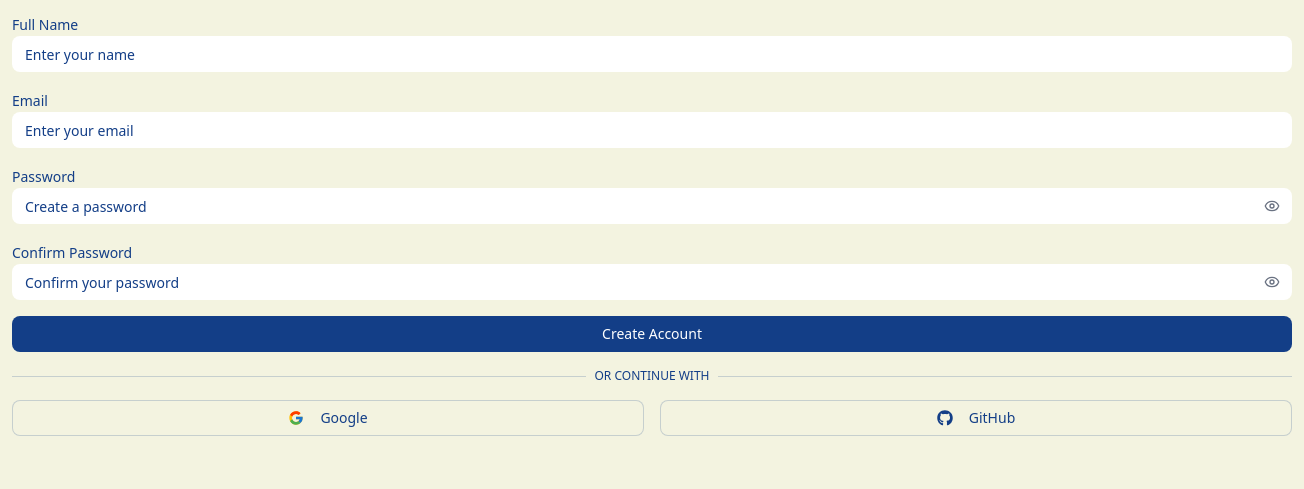
Test: SignupForm Component › form submit displays error when passwords do not match
Type "John Doe" into the field with placeholder "Enter your name". click: (652, 54)
box: [12,36,1292,72]
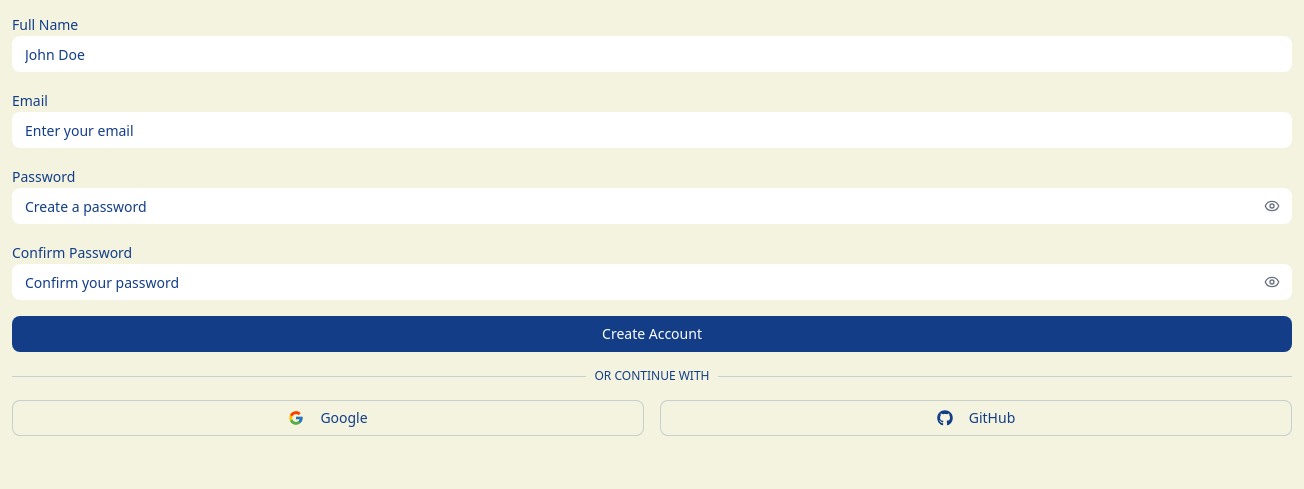
Type "test@example.com" into the field with placeholder "Enter your email". click: (652, 130)
box: [12,112,1292,148]
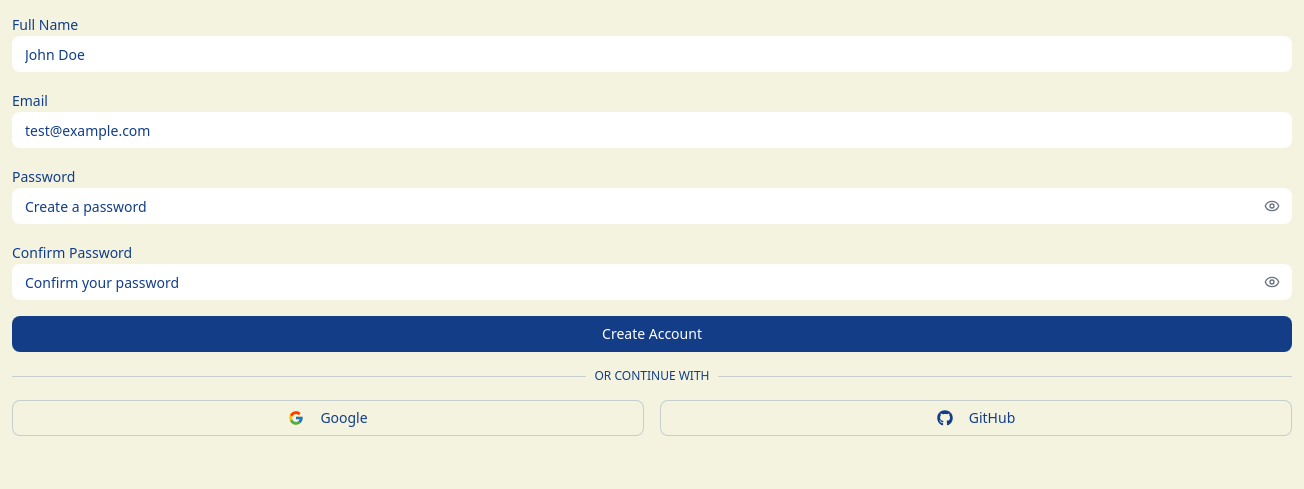
Type "password123" into the password field with placeholder "Create a password". click: (652, 206)
box: [12,188,1292,224]
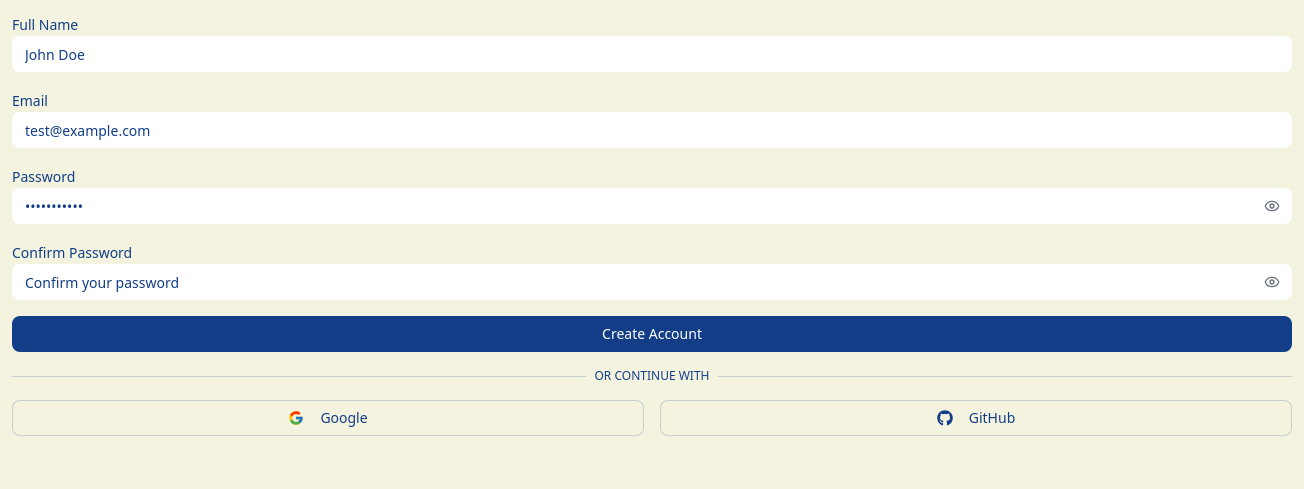
Type "password456" into the password field with placeholder "Confirm your password". click: (652, 282)
box: [12,264,1292,300]
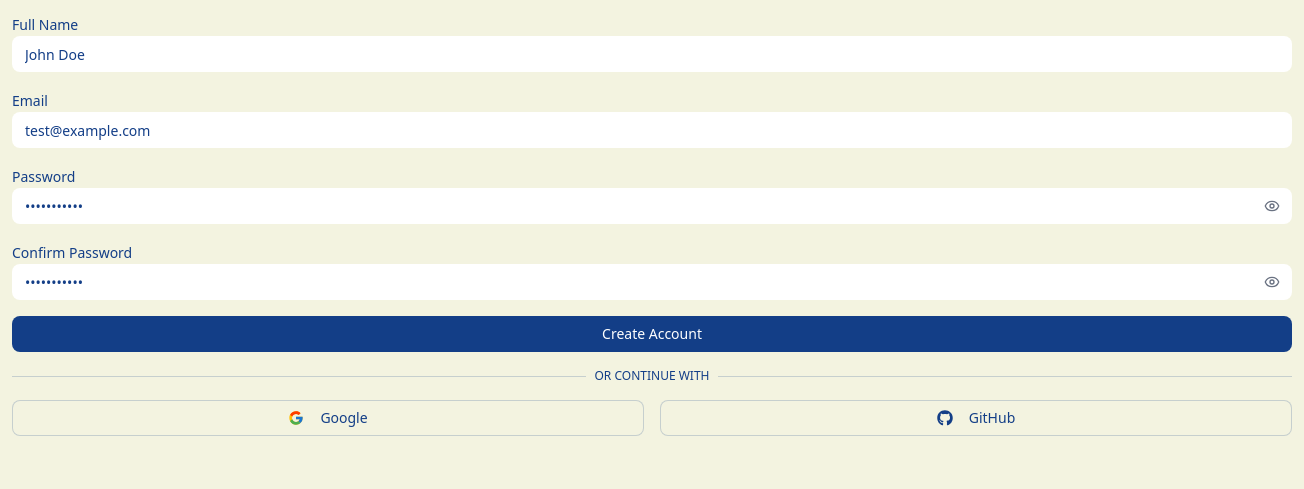
Click the button "Create Account". click: (652, 334)
box: [12,316,1292,352]
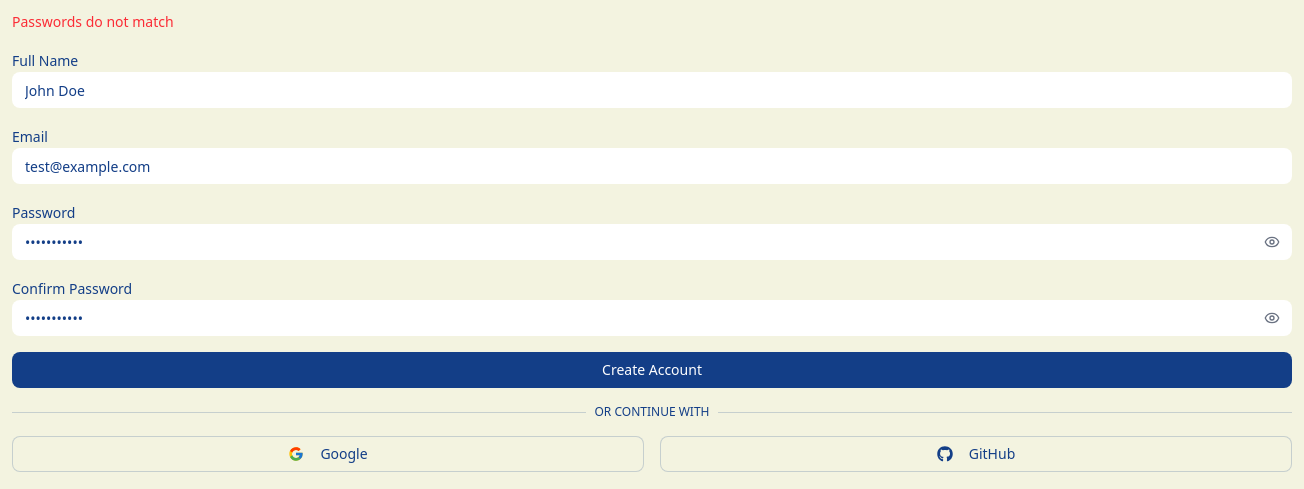
expect the text "Passwords do not match" is shown: met, box [12,12,174,31]
